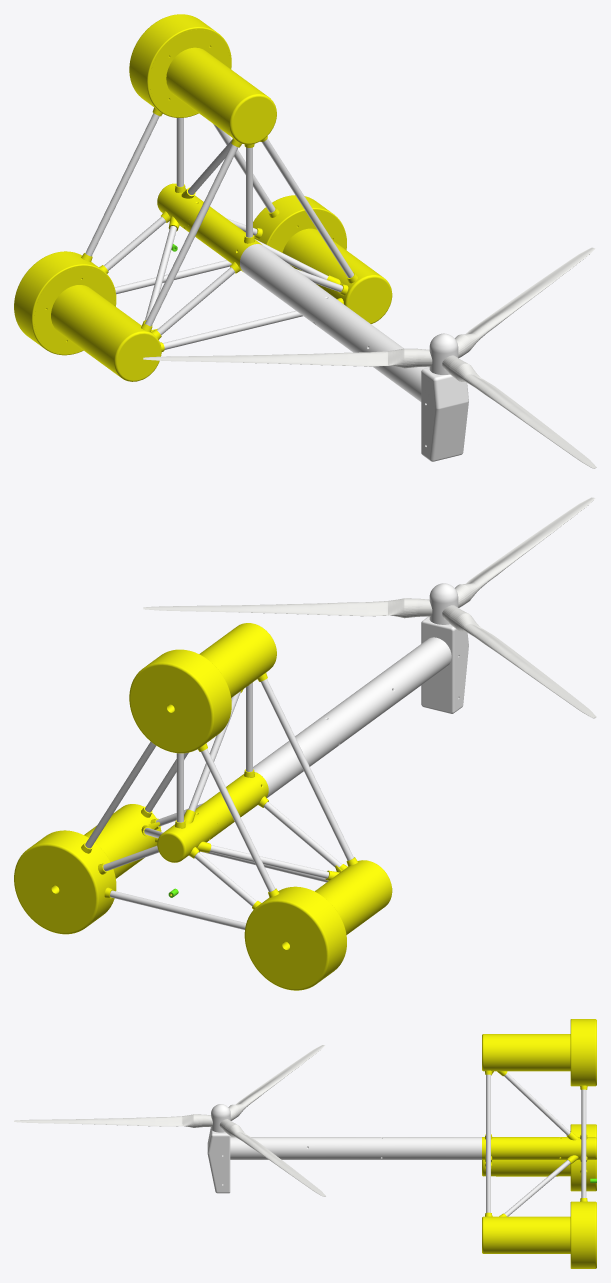
The picture shows the model from 3 angles, top to bottom: view 1: azimuth 30°, elevation 25°; view 2: azimuth 150°, elevation 25°; view 3: azimuth 270°, elevation 25°; orthographic projection. The views are drawn at different scales.
Visible parts, largest first — view 1: Pontoon_top_front, pontoon_top_right, Pontoon_top_left, Pilar_mid, Tapa_sup_gondola, Blade_2, pontoon_base_right, pontoon_base_front, Blade_3, Pilar_mid_b, Pilar_base_top, Blade_1 (+13 smaller); view 2: pontoon_base_right, pontoon_base_front, pontoon_base_left, pontoon_top_right, Pontoon_top_front, Blade_1, Pilar_mid, Pontoon_top_left, Tapa_inf_gondola, Pilar_mid_b, Pilar_base, Pilar_mid_t (+11 smaller); view 3: Pontoon_top_front, Pontoon_top_left, Pilar_mid, pontoon_base_left, pontoon_base_front, Pilar_mid_b, Blade_3, Pilar_base_top, Pilar_mid_t, pontoon_top_right, Blade_1, Pilar_base (+9 smaller).
Part boxes in pixels (bbox=[...]): Pontoon_top_front: bbox=[149, 29, 276, 147]; pontoon_top_right: bbox=[34, 267, 164, 381]; Pontoon_top_left: bbox=[268, 210, 392, 323]; Pilar_mid: bbox=[240, 244, 339, 328]; Tapa_sup_gondola: bbox=[427, 372, 468, 461]; Blade_2: bbox=[143, 348, 432, 368]; pontoon_base_right: bbox=[14, 251, 116, 355]; pontoon_base_front: bbox=[129, 14, 231, 117]; Blade_3: bbox=[442, 355, 596, 468]; Pilar_mid_b: bbox=[317, 300, 393, 367]; Pilar_base_top: bbox=[189, 207, 261, 273]; Blade_1: bbox=[455, 247, 595, 358]; pontoon_base_right: bbox=[244, 886, 346, 990]; pontoon_base_front: bbox=[129, 649, 231, 753]; pontoon_base_left: bbox=[14, 830, 116, 934]; pontoon_top_right: bbox=[315, 857, 392, 934]; Pontoon_top_front: bbox=[199, 623, 276, 697]; Blade_1: bbox=[143, 598, 432, 618]; Pilar_mid: bbox=[253, 714, 346, 797]; Pontoon_top_left: bbox=[84, 804, 161, 878]; Tapa_inf_gondola: bbox=[421, 616, 460, 713]; Pilar_mid_b: bbox=[323, 675, 399, 742]; Pilar_base: bbox=[157, 808, 217, 862]; Pilar_mid_t: bbox=[377, 637, 451, 702]; Pontoon_top_front: bbox=[482, 1034, 570, 1076]; Pontoon_top_left: bbox=[482, 1212, 570, 1253]; Pilar_mid: bbox=[375, 1137, 481, 1159]; pontoon_base_left: bbox=[570, 1198, 596, 1268]; pontoon_base_front: bbox=[570, 1019, 596, 1089]; Pilar_mid_b: bbox=[301, 1137, 375, 1159]; Blade_3: bbox=[14, 1114, 212, 1127]; Pilar_base_top: bbox=[482, 1134, 552, 1161]; Pilar_mid_t: bbox=[230, 1137, 308, 1159]; pontoon_top_right: bbox=[482, 1160, 570, 1176]; Blade_1: bbox=[219, 1119, 325, 1196]; Pilar_base: bbox=[552, 1131, 596, 1164].
Bounding box in the file's own units: 1096 × 688 × 1775.
